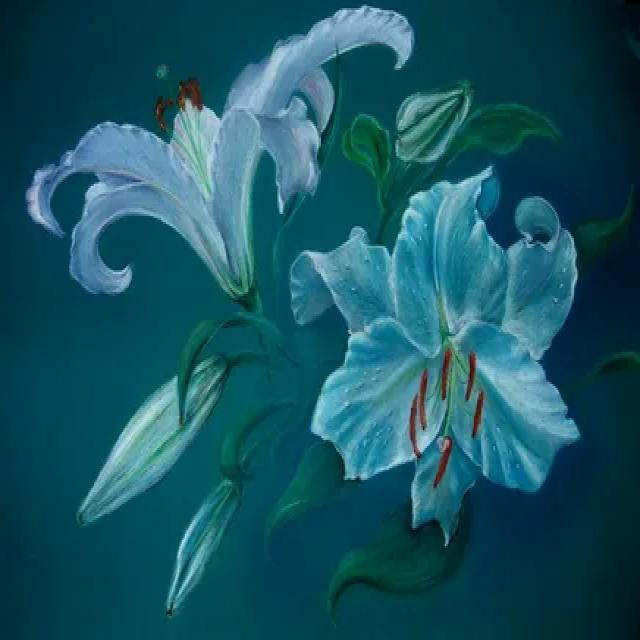lily: (281, 166, 598, 546)
